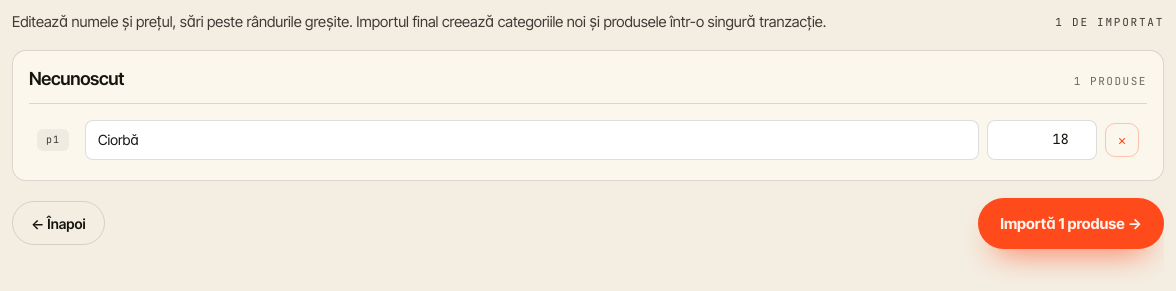
Test: StepReviewItems › shows inline error when name is cleared
The image size is (1176, 291).
Clear the field with test id "row-name" at point(532, 140), box [85, 120, 979, 160]
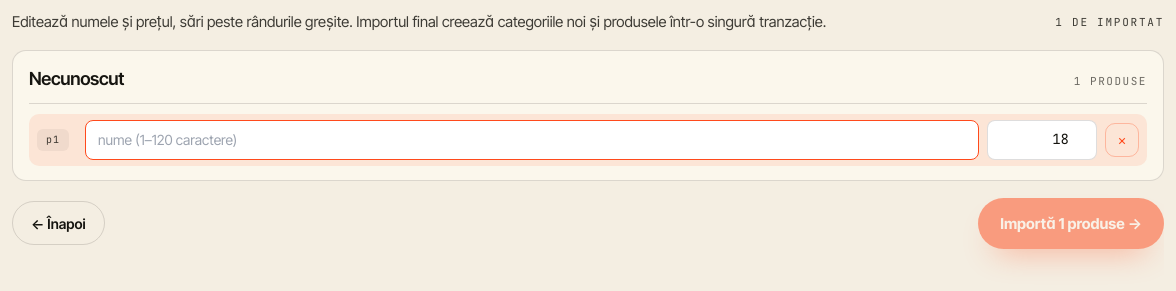
Expected: the button with test id "import-btn" is disabled, [978, 198, 1164, 249]
